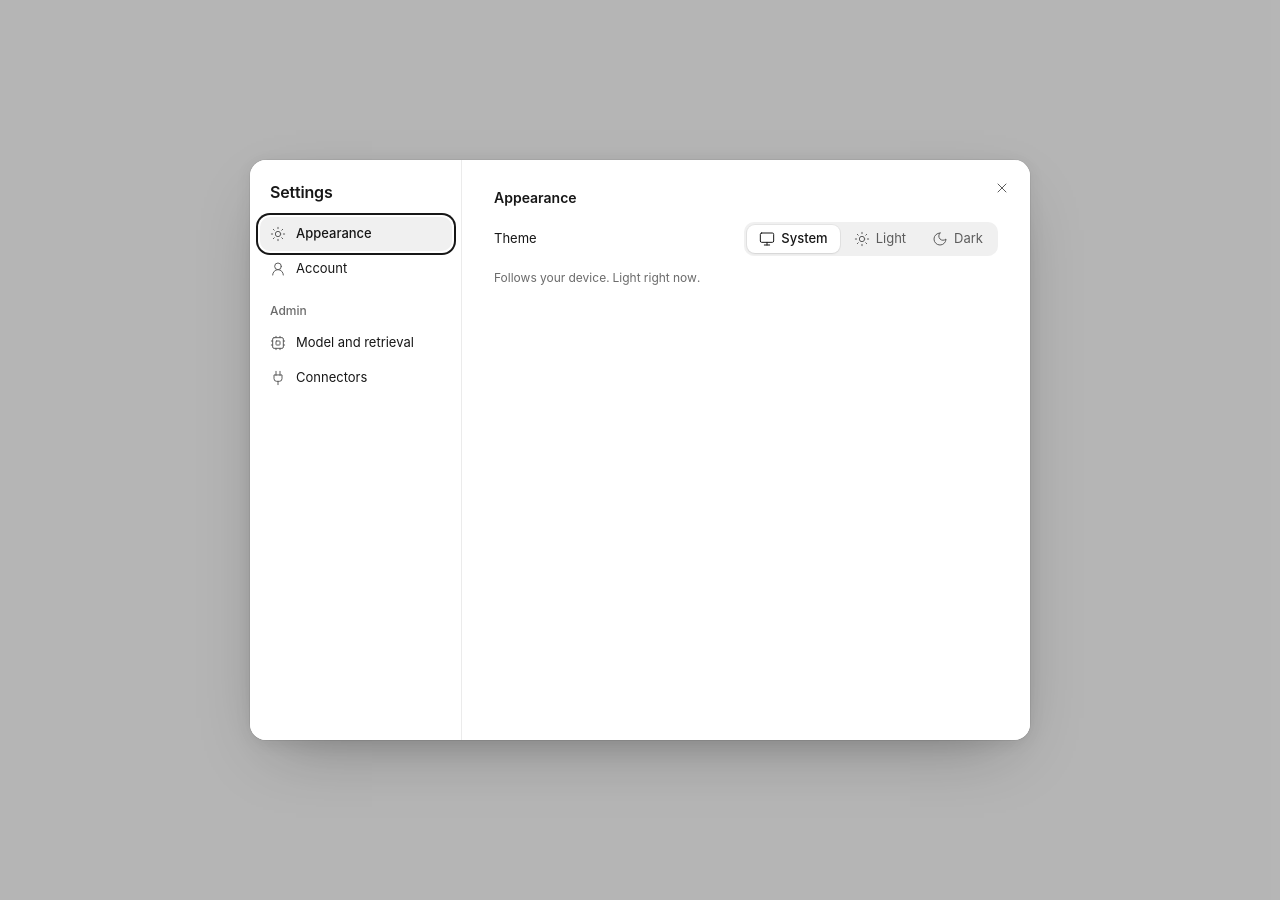
Scenario: SettingsDialog › shows an unknown model id once, without a second line
The image size is (1280, 900).
Click the button "Model and retrieval" at [356, 343], box [260,326,452,360]
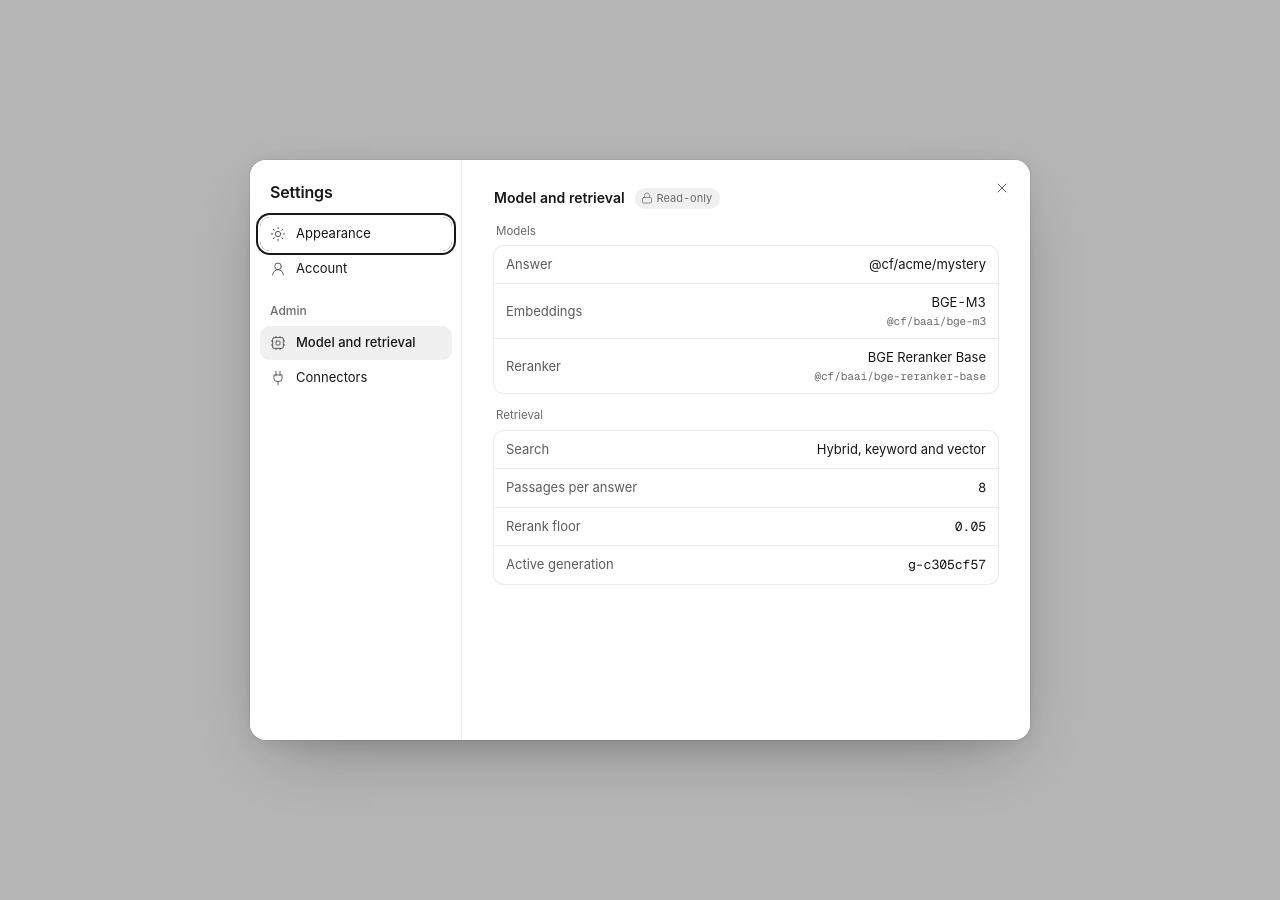
expect the text "@cf/acme/mystery" is shown once: met, box [869,255,986,274]
